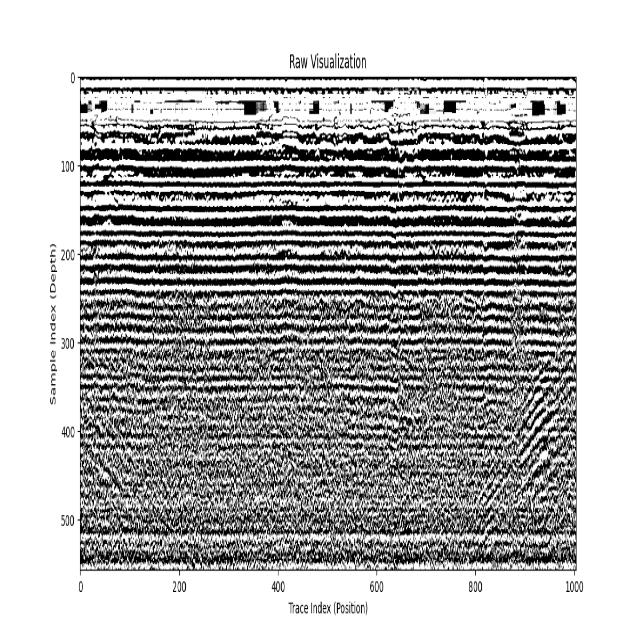anomaly: (443, 342, 576, 574), (82, 371, 208, 568)
